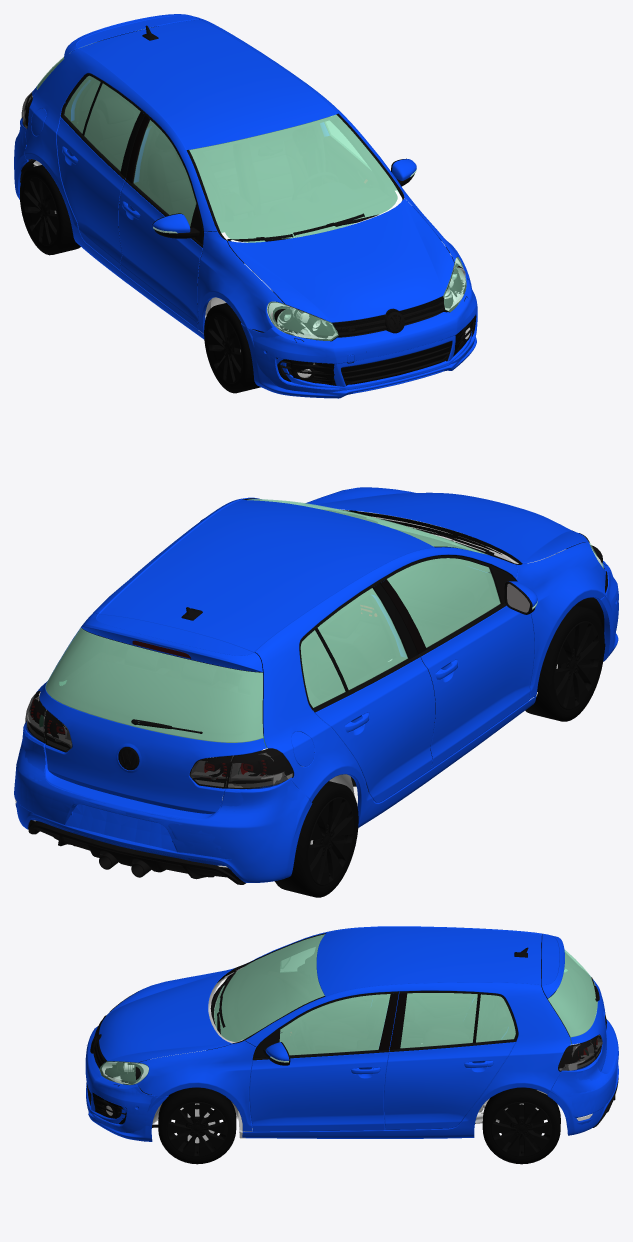
The model's file is vw_golf_6.glb.
3 renders of one model, top to bottom at view 1: azimuth 30°, elevation 25°; view 2: azimuth 150°, elevation 25°; view 3: azimuth 270°, elevation 25°, orthographic. The views are drawn at different scales.
Visible parts, largest first — view 1: vgolf6_paint-material, vivace_glass-material.007, vgolf6_paint-material.010, vgolf6_paint-material.006, vgolf6_paint-material.003, vgolf6_paint-material.016, vgolf6_paint-material.009, vgolf6_intr_tex-material.007, vivace_glass-material.003, vivace_glass-material.001, gti_nodamage-material, vgolf6_paint-material.015 (+26 smaller); view 2: vgolf6_paint-material, vgolf6_paint-material.011, vivace_glass-material.006, vgolf6_paint-material.014, vgolf6_paint-material.006, vgolf6_intr_tex-material.006, vgolf6_paint-material.016, vgolf6_paint-material.010, vivace_glass-material.003, vgolf6_paint-material.004, vivace_glass-material.001, vgolf6_paint-material.009 (+28 smaller); view 3: vgolf6_paint-material, vgolf6_paint-material.005, vgolf6_paint-material.007, vgolf6_paint-material.010, vivace_glass-material.007, vivace_glass-material.002, vgolf6_paint-material.008, vivace_glass-material, vgolf6_intr_tex-material.007, vgolf6_intr_tex-material.006, vgolf6_intr_tex-material.003, vivace_glass-material.006 (+28 smaller).
Boxes of the visible parts, x1,y1,x2,y2 form: vgolf6_paint-material: (24, 19, 400, 339); vivace_glass-material.007: (189, 114, 400, 242); vgolf6_paint-material.010: (228, 198, 454, 322); vgolf6_paint-material.006: (118, 126, 202, 329); vgolf6_paint-material.003: (252, 278, 477, 393); vgolf6_paint-material.016: (56, 80, 143, 270); vgolf6_paint-material.009: (197, 231, 283, 333); vgolf6_intr_tex-material.007: (213, 182, 391, 236); vivace_glass-material.003: (64, 75, 140, 171); vivace_glass-material.001: (133, 120, 196, 233); gti_nodamage-material: (252, 278, 476, 385); vgolf6_paint-material.015: (241, 277, 476, 398); vgolf6_paint-material: (36, 497, 536, 827); vgolf6_paint-material.011: (39, 613, 266, 813); vivace_glass-material.006: (45, 628, 263, 742); vgolf6_paint-material.014: (16, 721, 312, 882); vgolf6_paint-material.006: (419, 581, 537, 768); vgolf6_intr_tex-material.006: (54, 570, 485, 786); vgolf6_paint-material.016: (315, 595, 435, 802); vgolf6_paint-material.010: (307, 487, 588, 563); vivace_glass-material.003: (300, 588, 407, 707); vgolf6_paint-material.004: (14, 729, 234, 865); vivace_glass-material.001: (387, 558, 537, 647); vgolf6_paint-material.009: (516, 542, 606, 699); vgolf6_paint-material: (242, 926, 571, 1138); vgolf6_paint-material.005: (249, 1042, 388, 1131); vgolf6_paint-material.007: (384, 1032, 515, 1129); vgolf6_paint-material.010: (99, 969, 232, 1062); vivace_glass-material.007: (214, 934, 325, 1041); vivace_glass-material.002: (400, 993, 515, 1048); vgolf6_paint-material.008: (136, 1041, 256, 1131); vivace_glass-material: (270, 994, 390, 1062); vgolf6_intr_tex-material.007: (228, 973, 305, 1052); vgolf6_intr_tex-material.006: (235, 936, 595, 1044); vgolf6_intr_tex-material.003: (491, 1102, 552, 1156); vivace_glass-material.006: (548, 949, 597, 1037).
Bounding box in the file's own units: 2.53 × 1.79 × 4.85.
